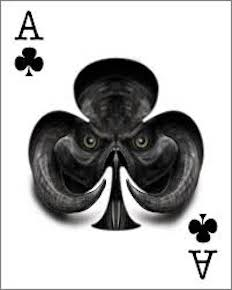AceOfClubs: (1, 1, 229, 290)
